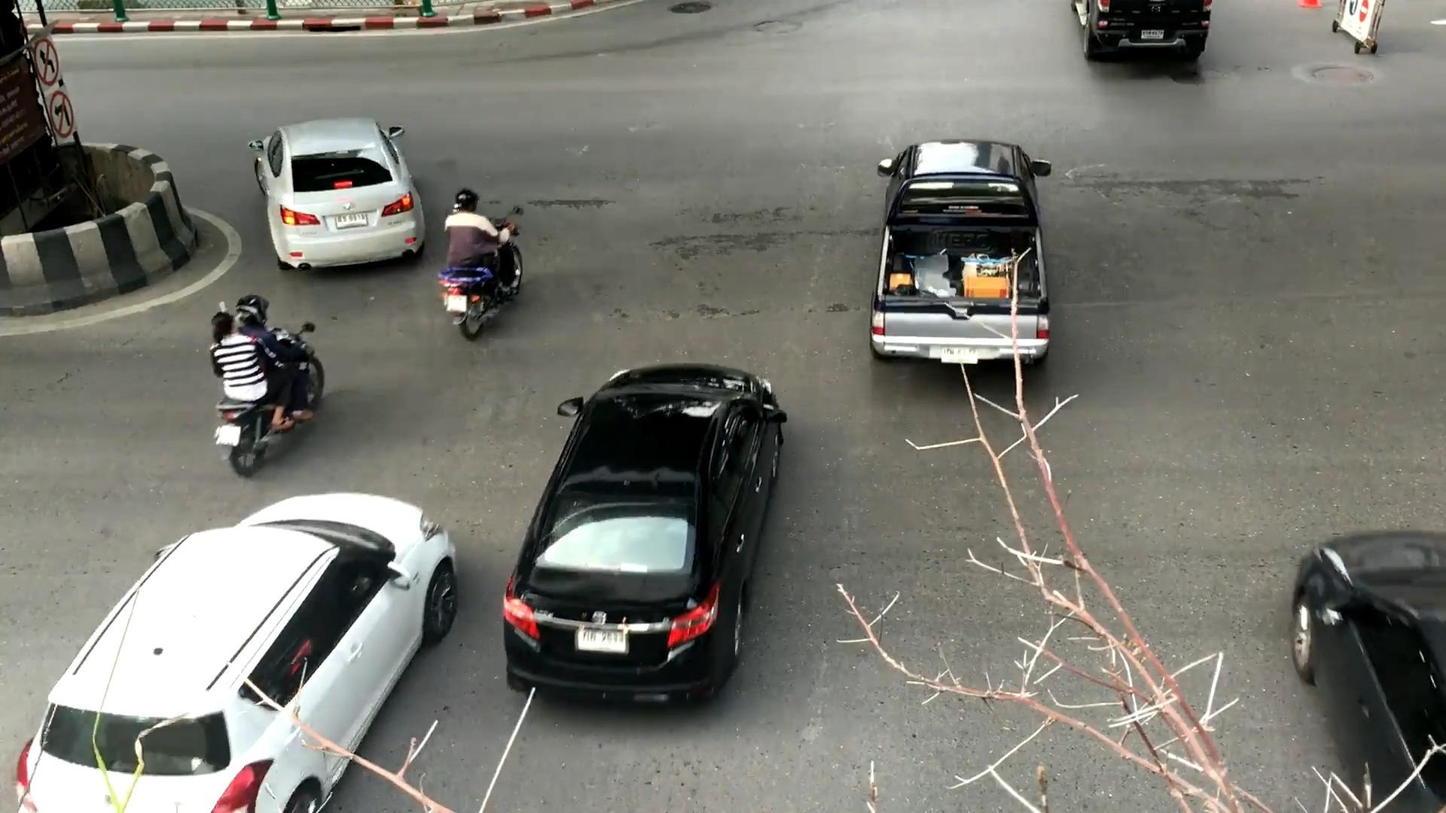driver: (210, 295, 325, 478), (437, 188, 524, 342)
helmet: (235, 295, 269, 328), (455, 187, 480, 213)
no-helmet: (211, 312, 238, 342)
